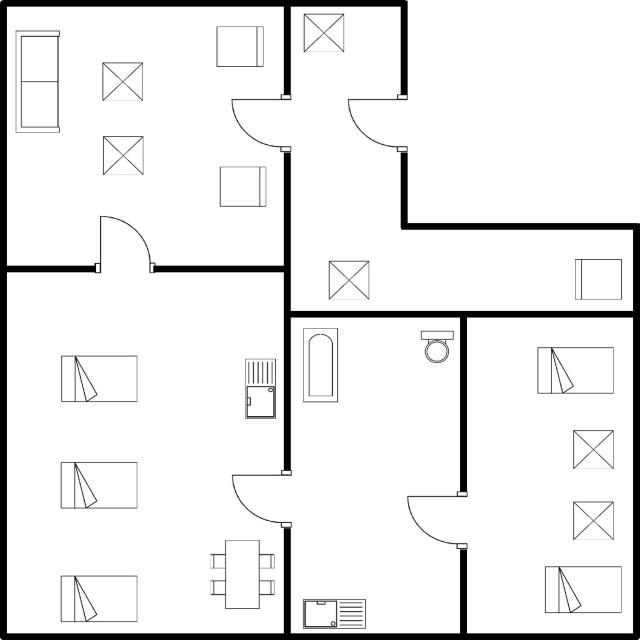bed: (56, 456, 142, 514), (532, 341, 618, 397), (54, 352, 142, 406), (56, 572, 142, 626)
coffee_table: (322, 256, 374, 304), (96, 131, 146, 179), (568, 425, 620, 471), (568, 497, 618, 543), (299, 9, 347, 56), (98, 58, 147, 104)
dining_table: (202, 536, 278, 614)
large_sink: (414, 326, 456, 366)
large_sofa: (12, 26, 64, 135)
sink: (238, 355, 280, 423), (298, 594, 370, 633)
small_sofa: (566, 254, 626, 304), (212, 22, 266, 72), (214, 163, 270, 211)
tub: (296, 324, 342, 406)
